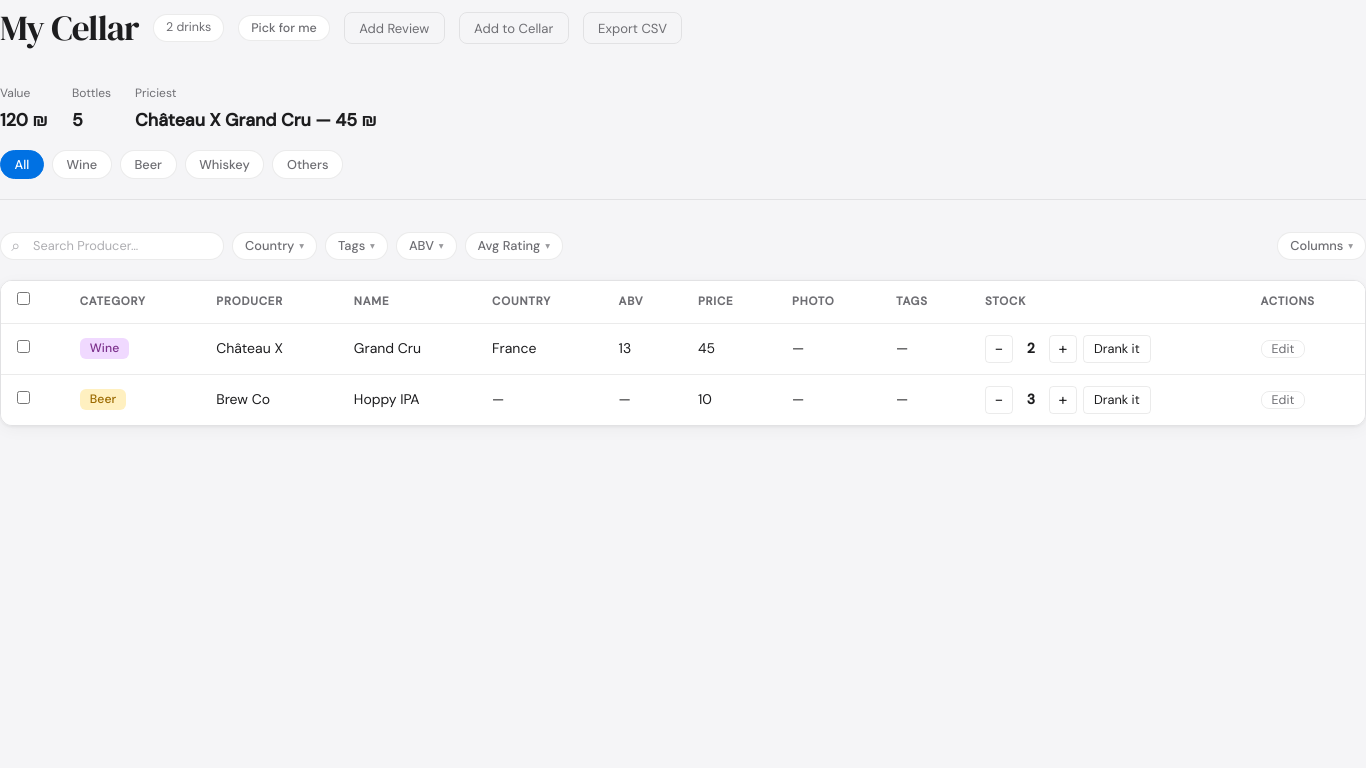
Pick for me only picks from the active category tab
Expected: the text "Hoppy IPA" is shown, [338,374,476,425]
Step 1. Click the button "Beer" → x=148, y=164, box [120,150,177,179]
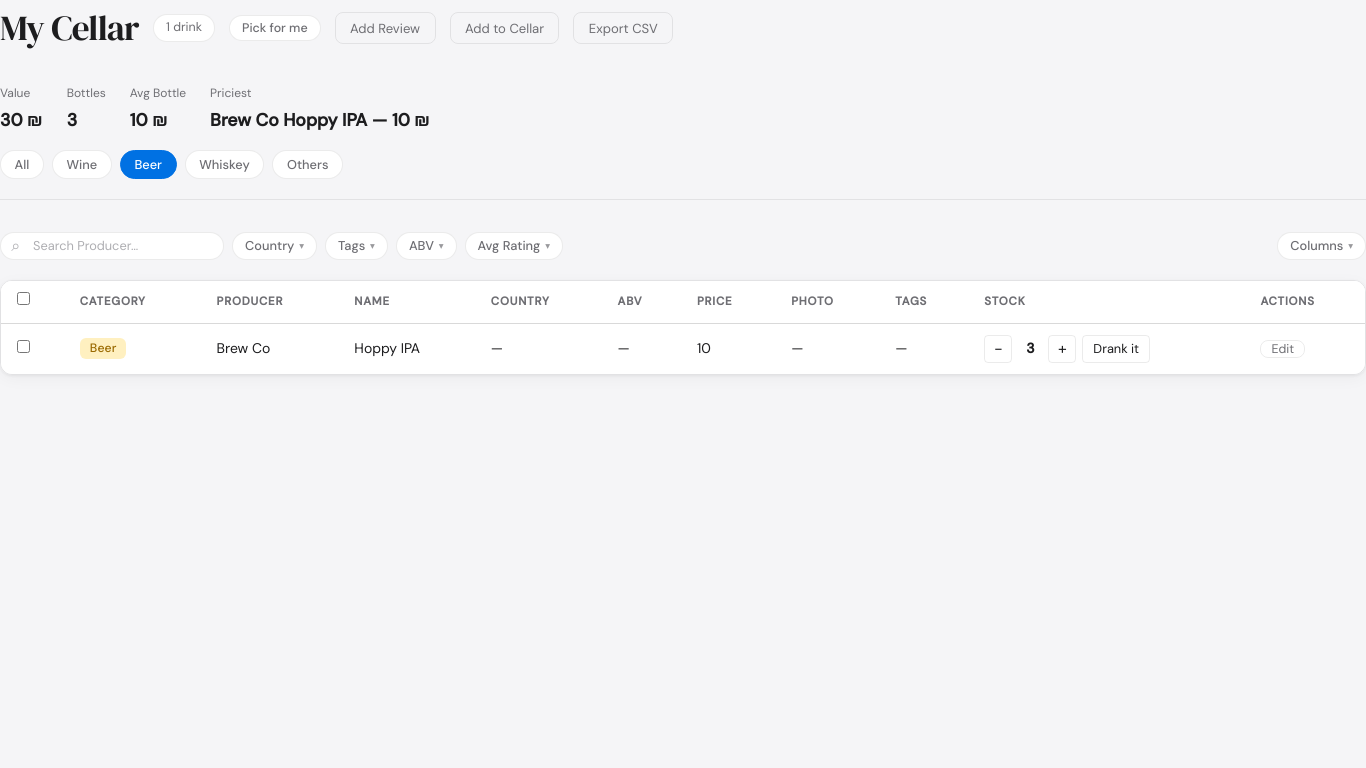
Step 2. Click the button "Pick for me" → x=275, y=28, box [229,15,321,41]
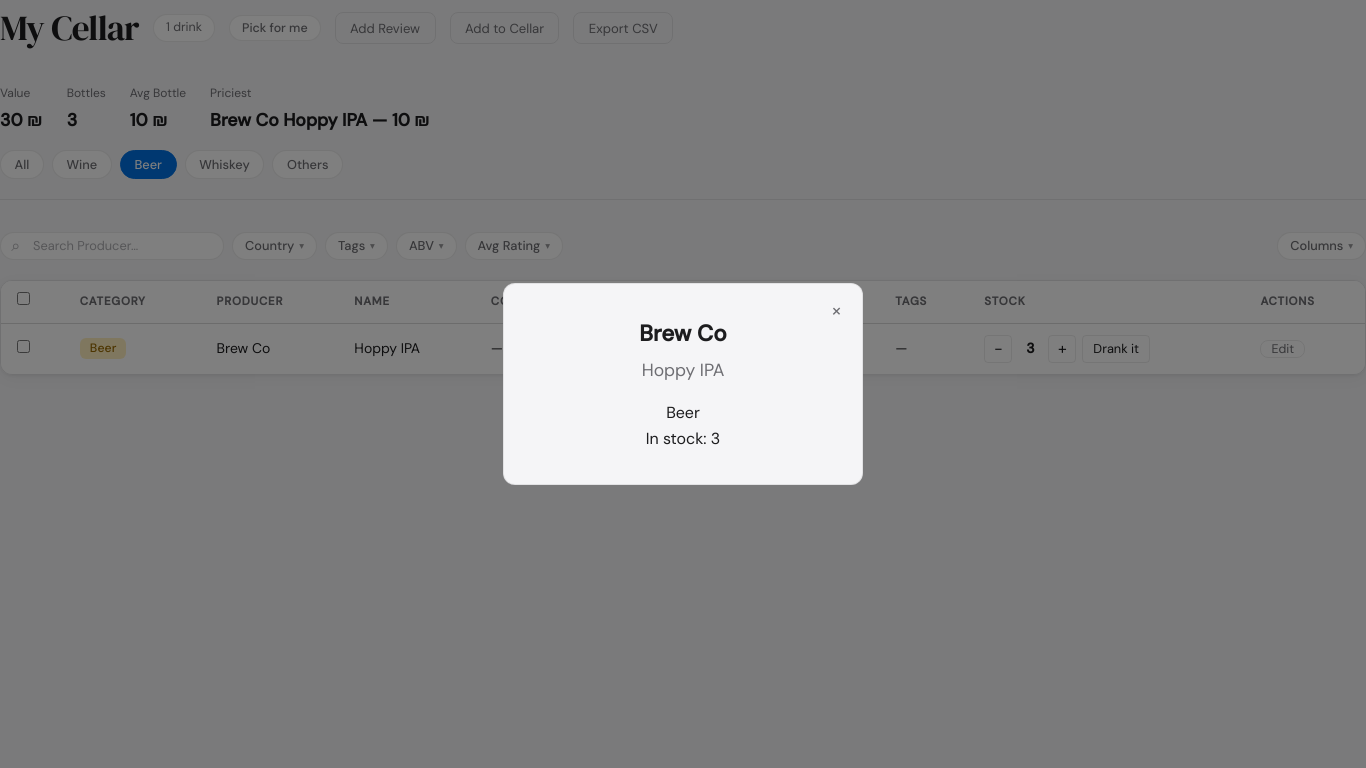
Now the dialog shows "Brew Co", box [639,319,727,348]
